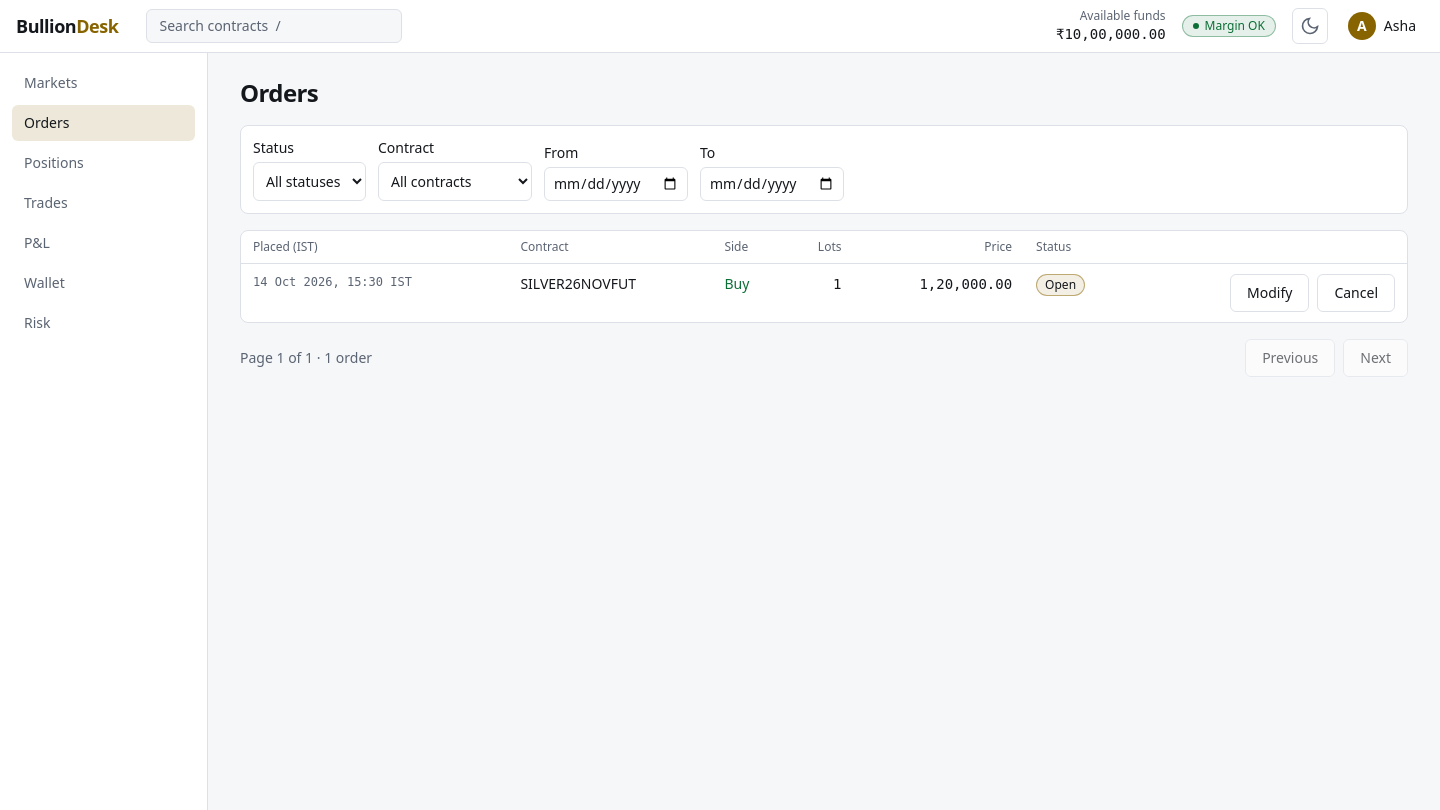
Test: orders page › cancels: confirm, DELETE 202, then polls the order until it is Cancelled
What coordinates should you click on to do the following:
click the button with aria-label "Cancel order SILVER26NOVFUT"
I would click on:
 (1356, 293)
Its box is x1=1317 y1=274 x2=1395 y2=312.
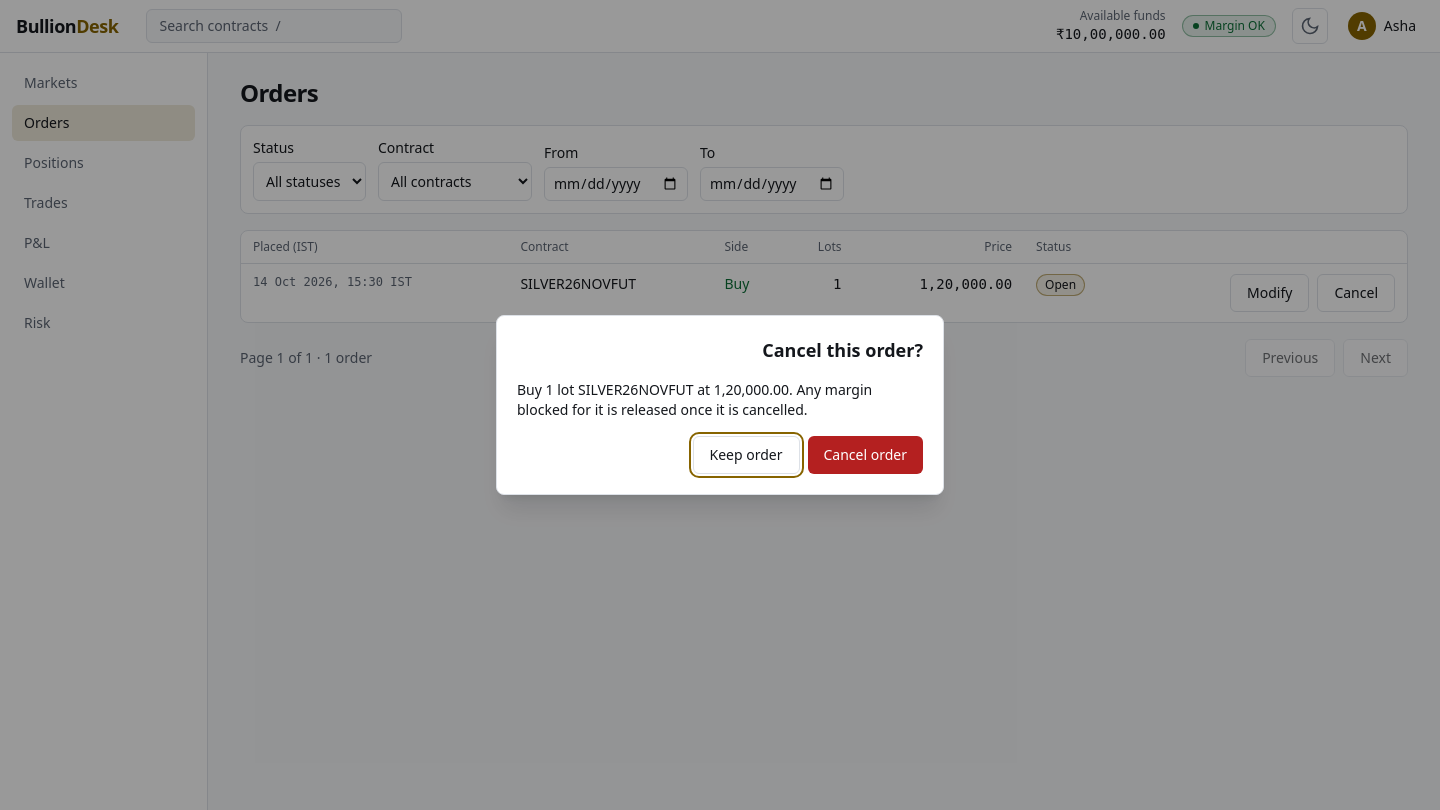
Result: the dialog "Cancel this order?" shows "Buy 1 lot SILVER26NOVFUT at 1,20,000.00" at x1=496 y1=315 x2=944 y2=495
What coordinates should you click on to do the following:
click the button "Cancel order"
I would click on:
 (865, 455)
Its box is x1=808 y1=436 x2=923 y2=474.
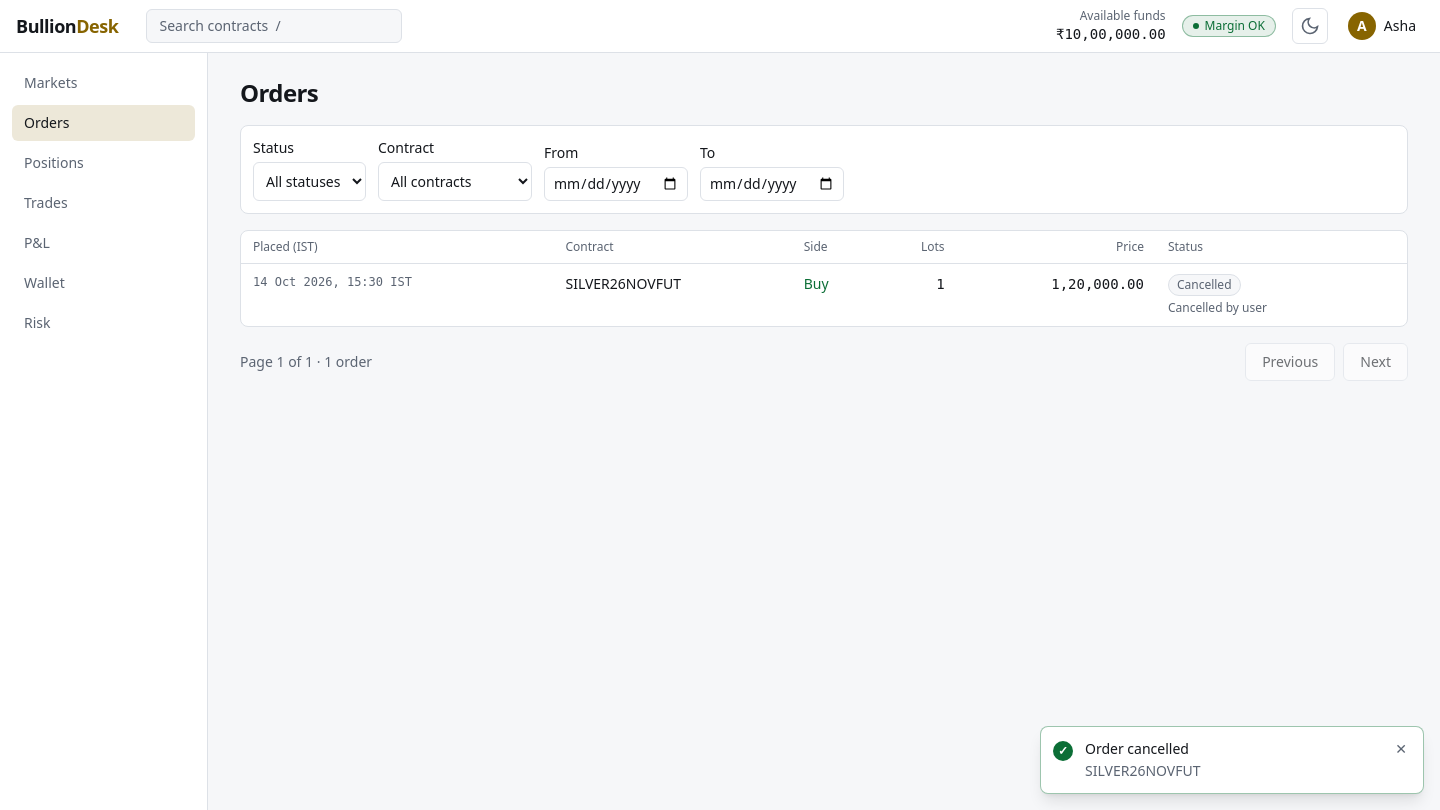
Result: the text "Cancelled by user" is shown at x1=1168 y1=299 x2=1267 y2=316
Result: the text "Cancelled" is shown at x1=1168 y1=274 x2=1240 y2=296
Result: the button "Cancel order" is gone
